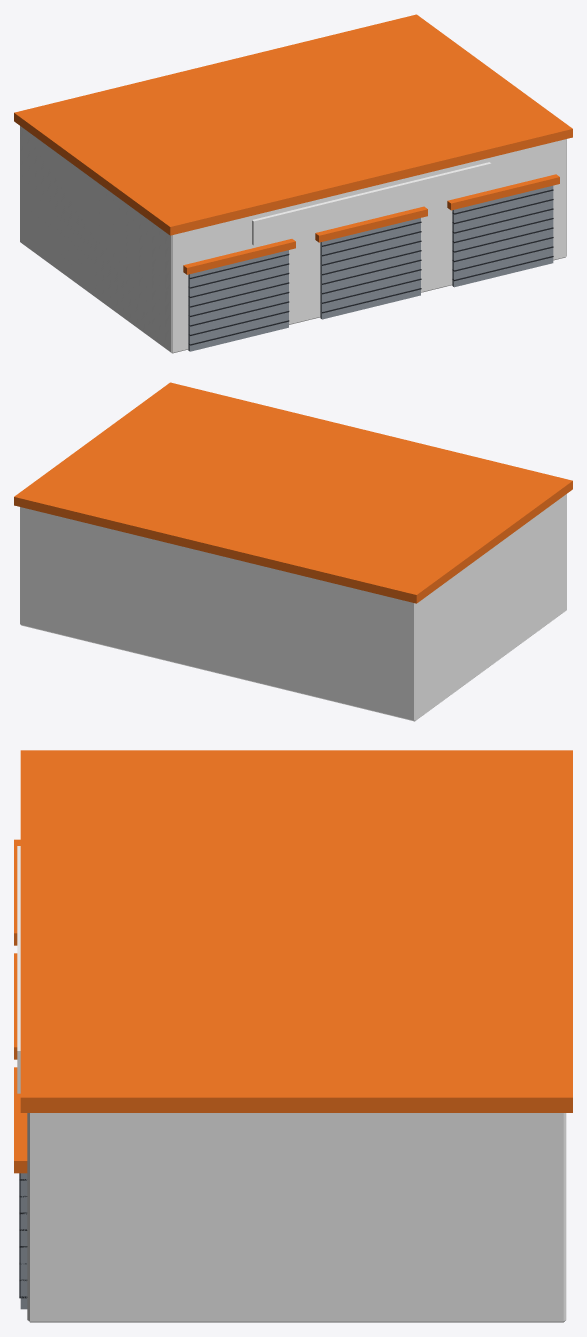
The model's file is garage.glb.
3 renders of one model, top to bottom at view 1: azimuth 30°, elevation 25°; view 2: azimuth 150°, elevation 25°; view 3: azimuth 270°, elevation 25°, orthographic. The views are drawn at different scales.
Parts seen in each view (by area): view 1: garage_walls, garage_sign; view 2: garage_walls; view 3: garage_walls, garage_sign.
Boxes of the visible parts, x1,y1,x2,y2 form: garage_walls: (14,14,572,353); garage_sign: (252,162,491,245); garage_walls: (14,382,572,721); garage_walls: (14,750,572,1322); garage_sign: (17,846,20,1093).
Bounding box in the file's own units: 24.4 × 7.5 × 16.6.
